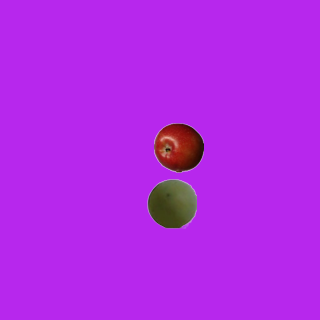Apple Braeburn: (153, 122, 203, 172)
Grape White 4: (146, 178, 196, 228)
